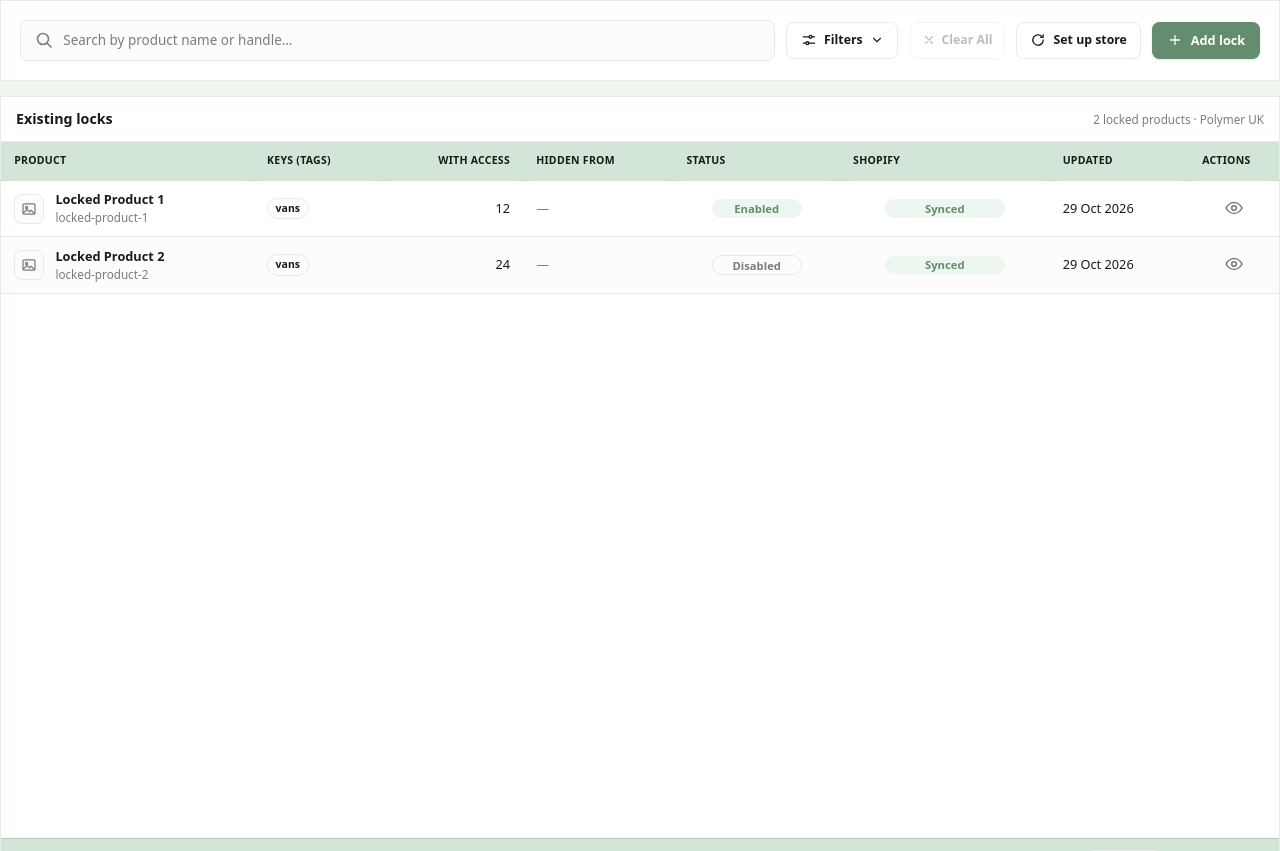
Test: LocksPage › Add lock › lists every product, the store’s tags and the customers from the API
Expected: the button "Locked Product 1" is shown, x1=55 y1=190 x2=164 y2=209
Click the button "Add lock" at (1206, 40), box x1=1152 y1=22 x2=1260 y2=59
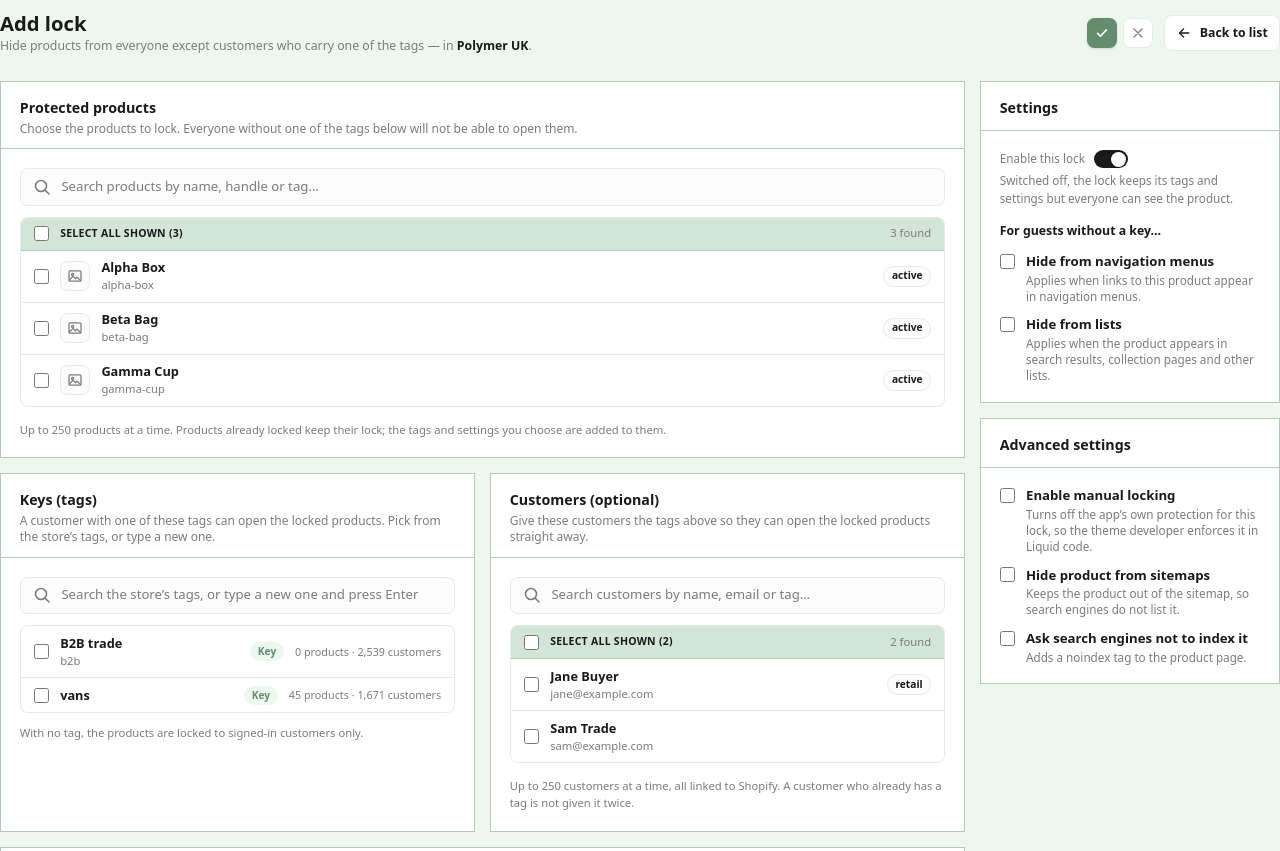
Expected: the checkbox labelled "Alpha Box" is shown, x1=34 y1=269 x2=49 y2=284
Expected: the checkbox labelled "Gamma Cup" is shown, x1=34 y1=373 x2=49 y2=388
Expected: the checkbox labelled "B2B" is shown, x1=34 y1=644 x2=49 y2=659
